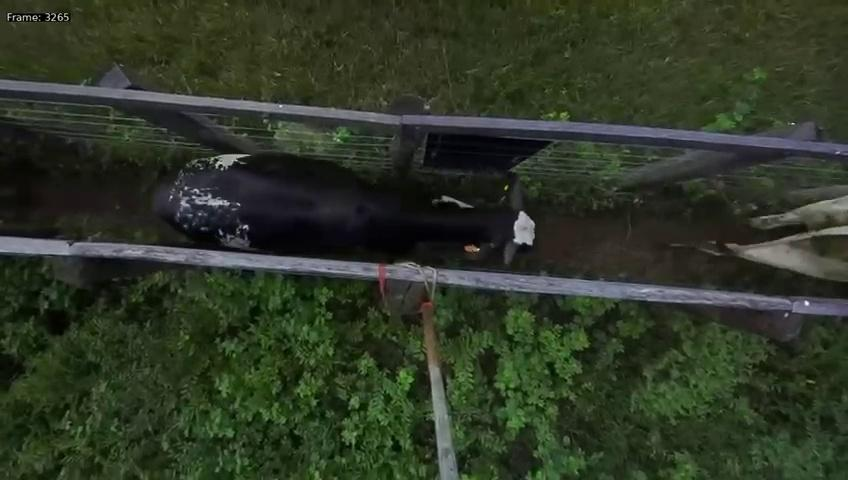cattle: (145, 141, 548, 283)
